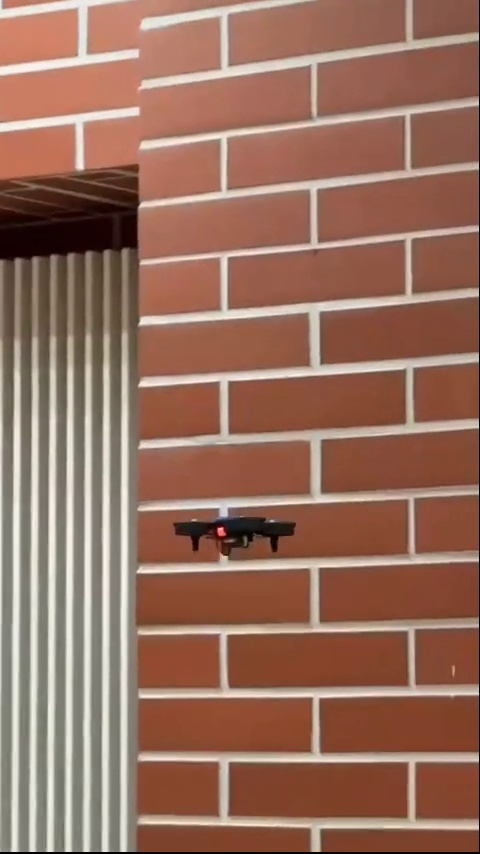drone: (168, 511, 300, 564)
